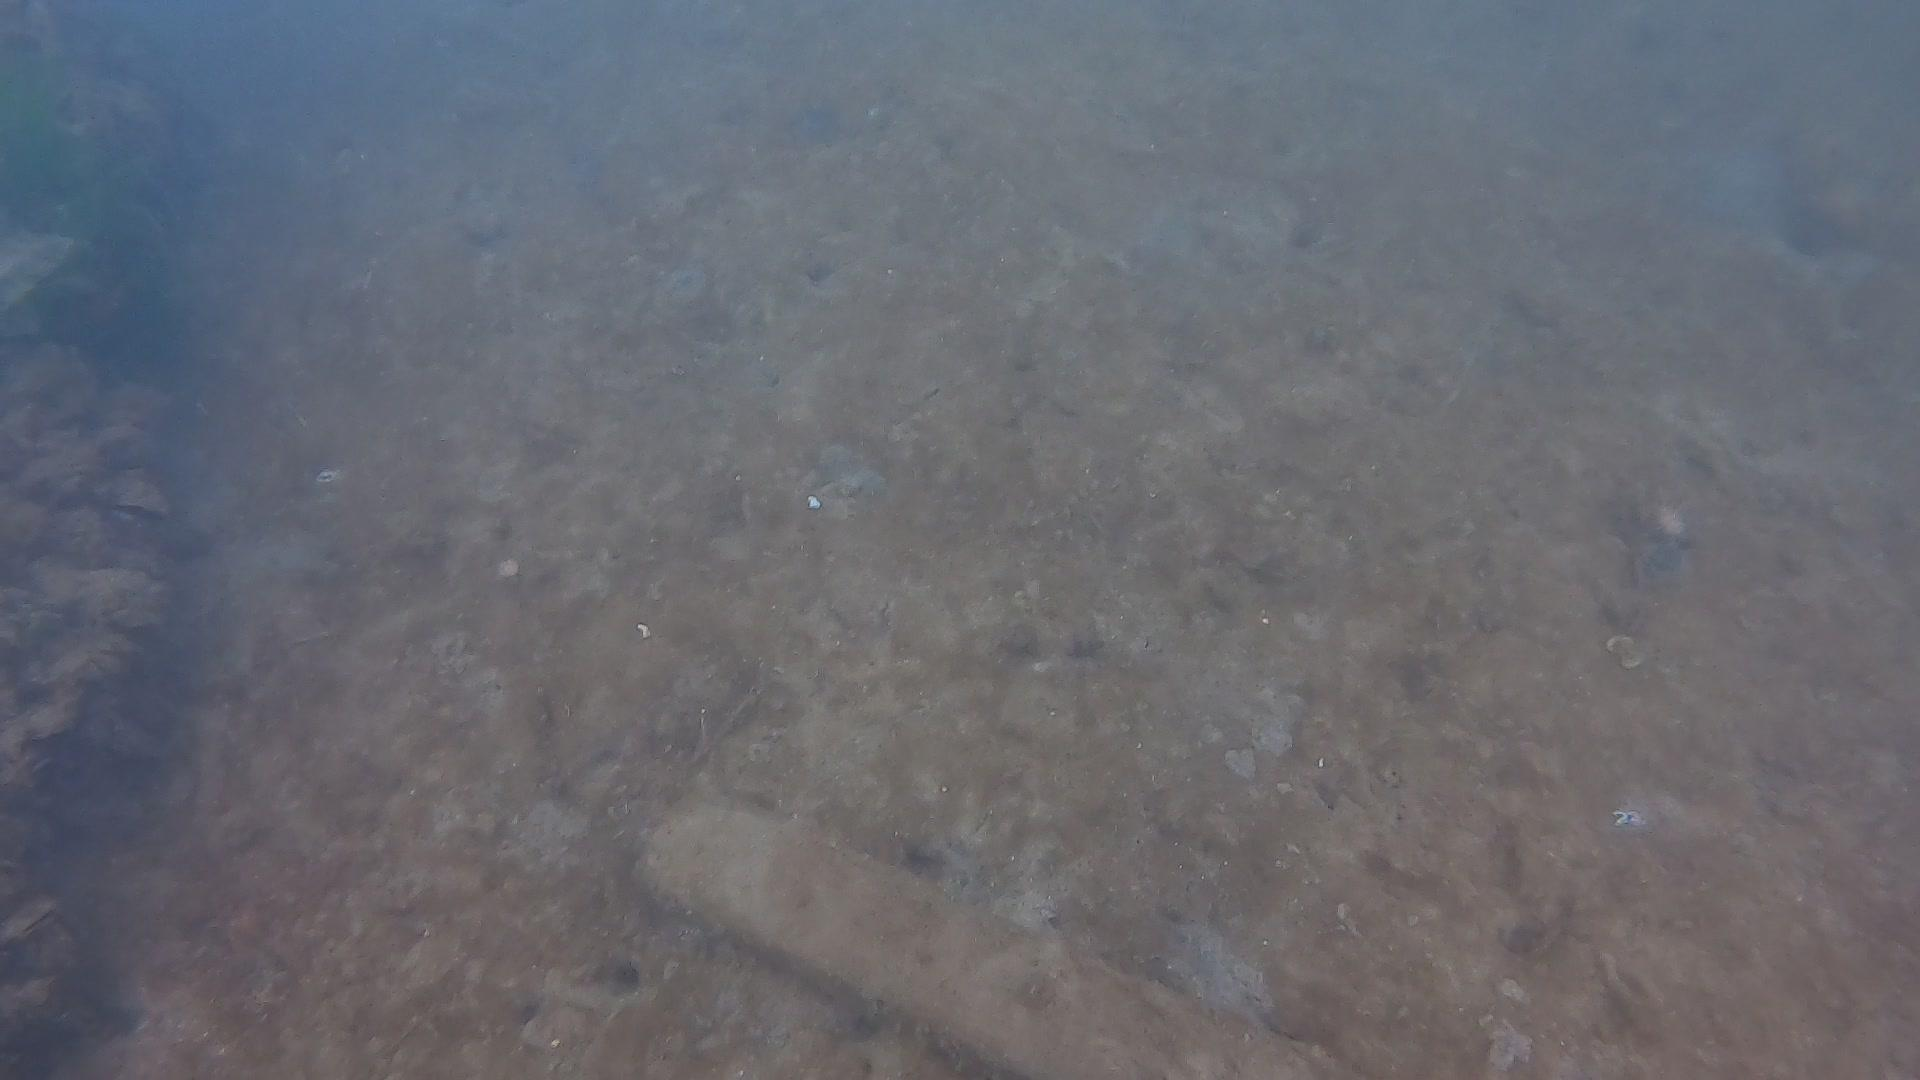wood: (634, 796, 1348, 1080)
